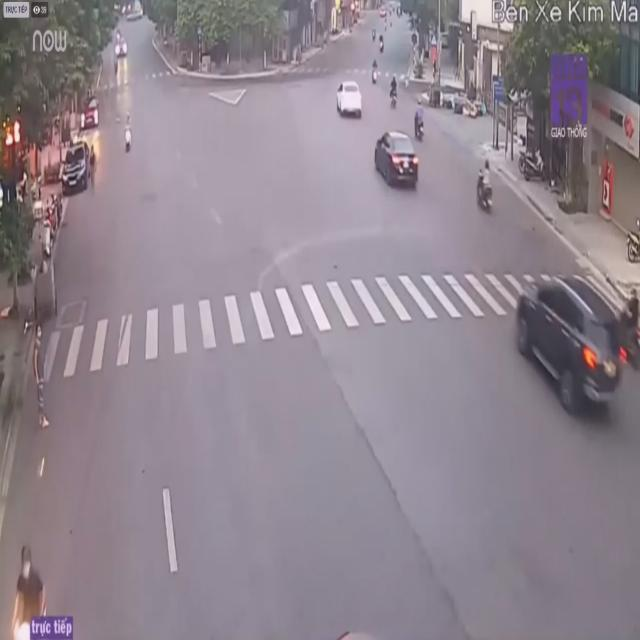car: (512, 280, 616, 418), (372, 131, 420, 191), (336, 80, 364, 123)
motorbike: (476, 158, 496, 216), (412, 100, 427, 140)
